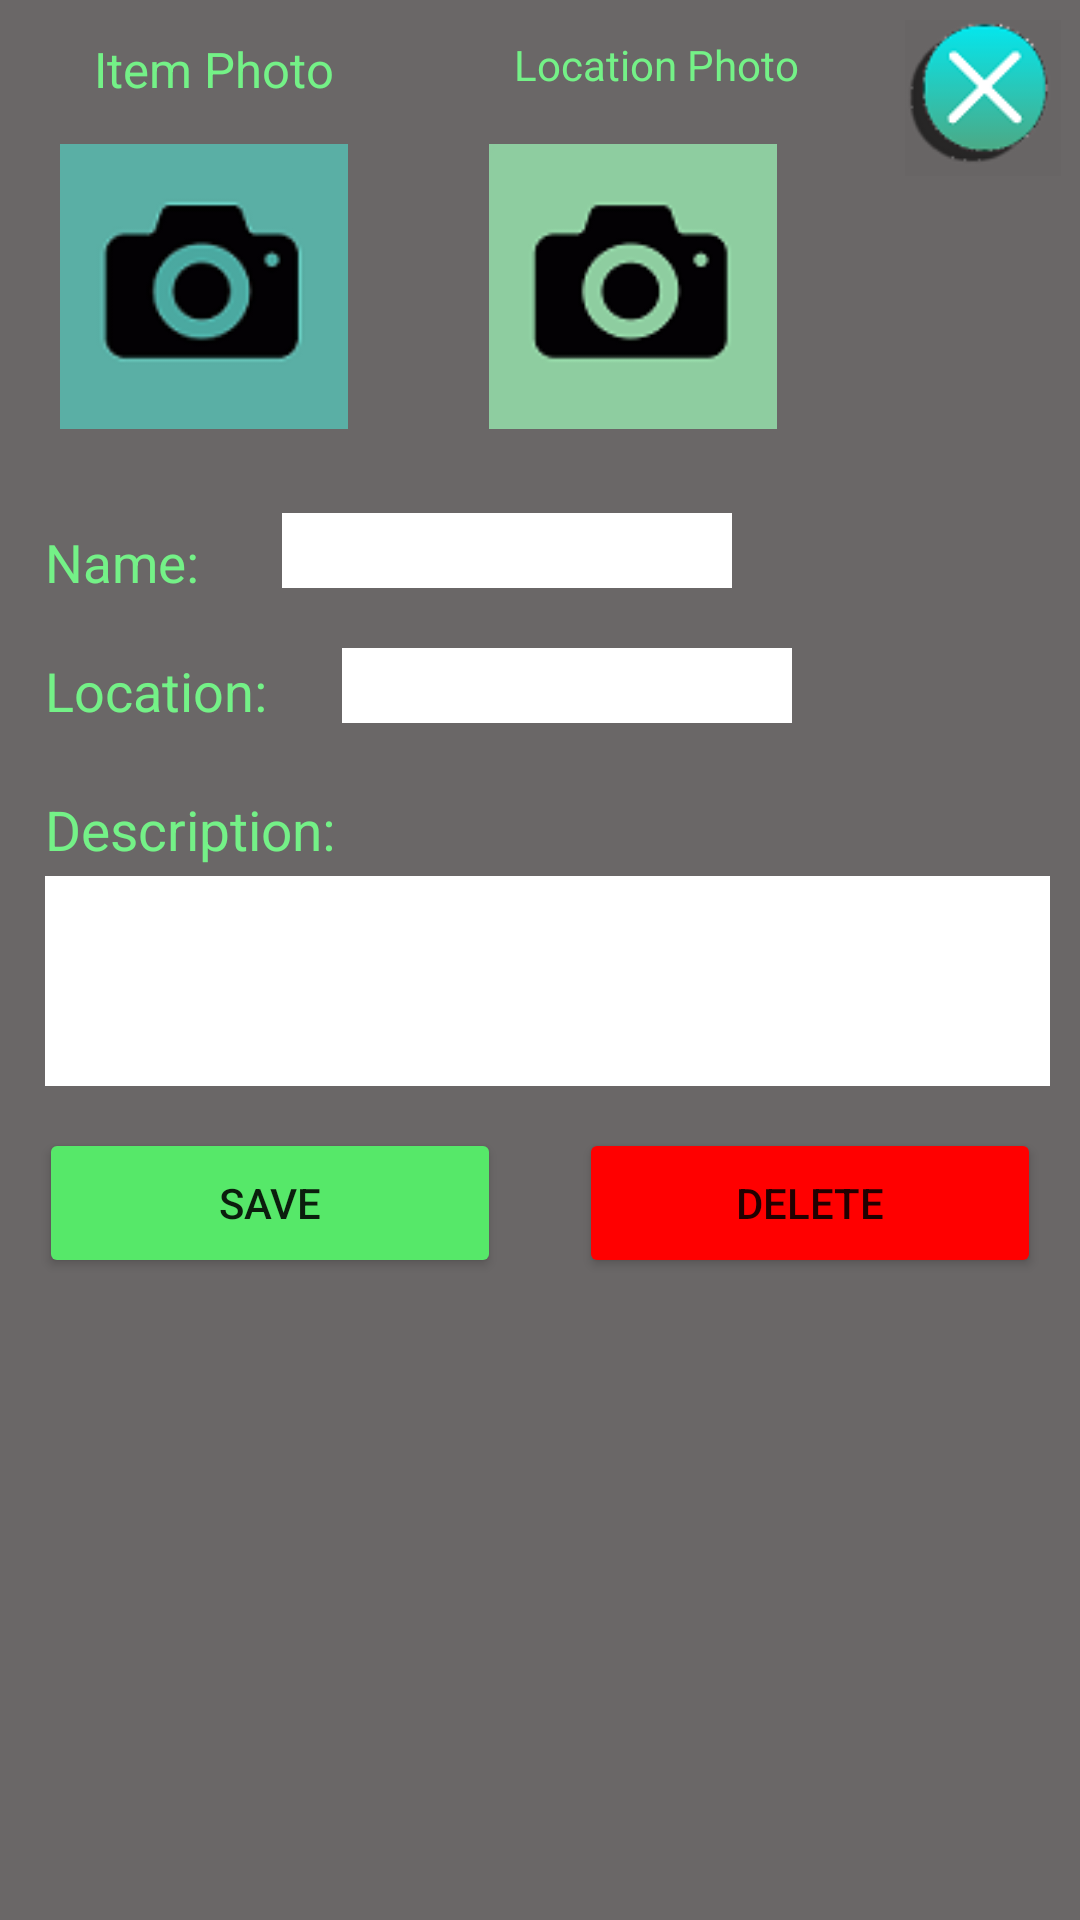

Locate icon controls on the screen. Image size 1080×1920, boxes as {"x1": x1, "y1": y1, "x2": x2, "y2": y2}.
no pic: {"x1": 60, "y1": 144, "x2": 348, "y2": 429}, {"x1": 489, "y1": 144, "x2": 777, "y2": 429}
